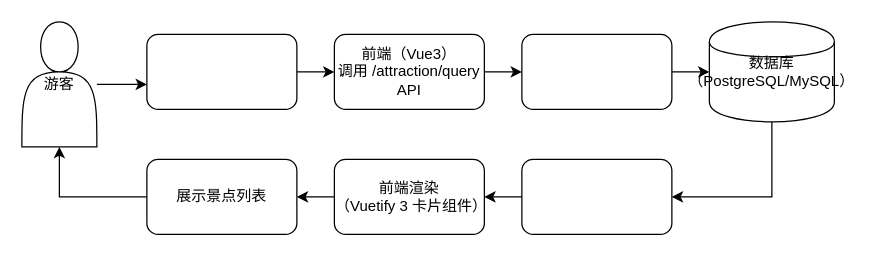
The diagram is 876 pixels wide and 256 high, and some of its shapes have lost their labels. The shapes that lost their labels are listed below. From the top down, each one's centre as x and y in pixels, then its label:
At point 221,71: "输入查询条件 （如景点名称“古镇”）".
At point 596,71: "后端（Express） Sequelize 查询 attractions 表".
At point 596,196: "返回 JSON 数据 （景点列表）".
